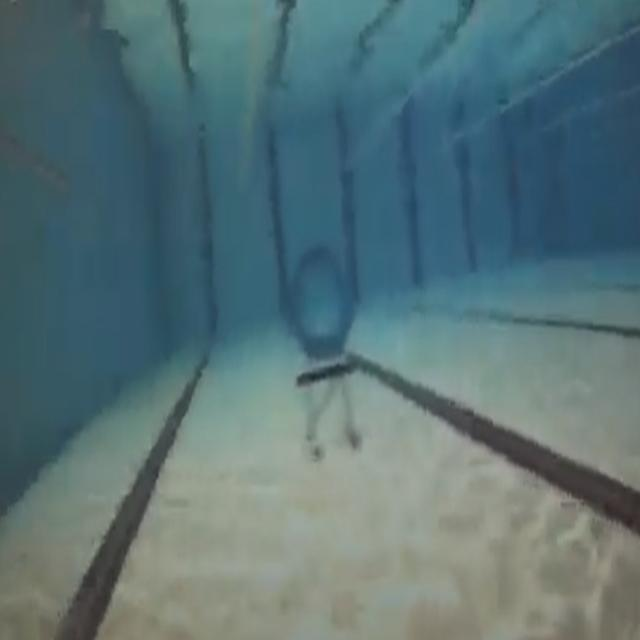Circle: (286, 247, 354, 358)
